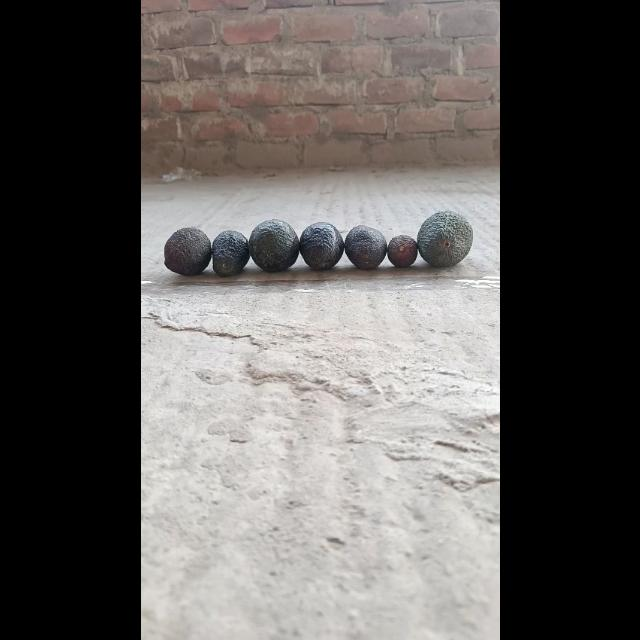Primera: (417, 209, 473, 267), (248, 219, 298, 271)
Segunda: (162, 226, 212, 276), (298, 222, 344, 270), (343, 224, 387, 270), (209, 230, 249, 276)
Tercera: (386, 234, 418, 268)
